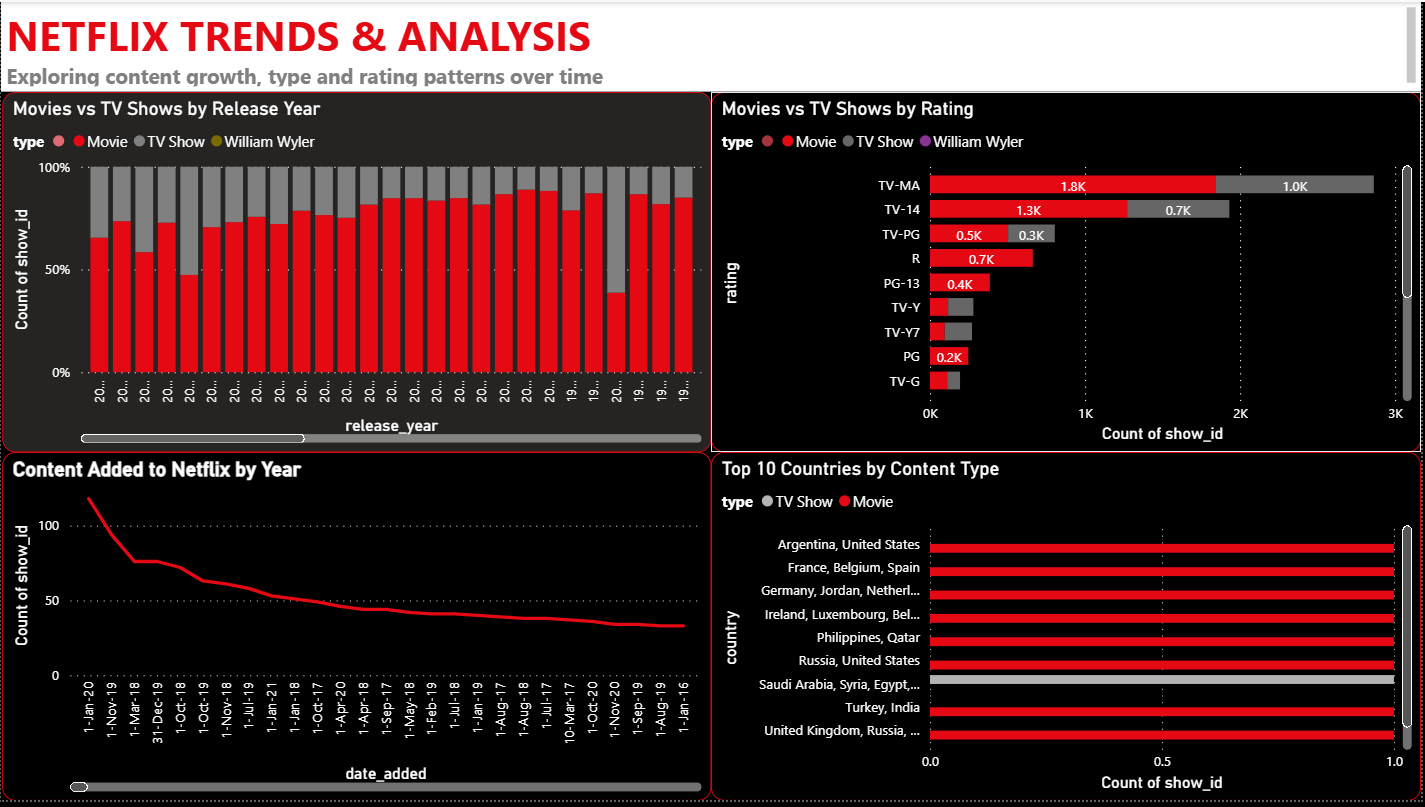

Layout of this report page (visuals, bound fields, positions):
{"tool":"powerbi","page":{"name":"Trends & Analysis","canvas":[1280,720],"ordinal":2},"visuals":[{"type":"textbox","box":[0,0,1280,81.1],"z":0},{"type":"hundredPercentStackedColumnChart","title":"Movies vs TV Shows by Release Year","fields":{"Category":["NetFlix.release_year"],"Y":["CountNonNull(NetFlix.show_id)"],"Series":["NetFlix.type"]},"box":[1.1,81.1,638.9,324.5],"z":1000},{"type":"lineChart","title":"Content Added to Netflix by Year","fields":{"Category":["NetFlix.date_added"],"Y":["CountNonNull(NetFlix.show_id)"]},"box":[1.1,405.6,638.9,314.4],"z":2000},{"type":"barChart","title":"Movies vs TV Shows by Rating","fields":{"Category":["NetFlix.rating"],"Y":["CountNonNull(NetFlix.show_id)"],"Series":["NetFlix.type"]},"box":[640,81.1,640,324.5],"z":3000},{"type":"clusteredBarChart","title":"Top 10 Countries by Content Type","fields":{"Category":["NetFlix.country"],"Y":["CountNonNull(NetFlix.show_id)"],"Series":["NetFlix.type"]},"box":[640,405.6,640,314.4],"z":4000}]}

Visuals, with their boxes in screenshot pixels (x1, y1, x2, y2), scaled from the page's 1280x720 canvas onto the 1425x807 screenshot:
textbox: [x1=0, y1=0, x2=1424, y2=91]
"Movies vs TV Shows by Release Year" hundredPercentStackedColumnChart: [x1=1, y1=91, x2=712, y2=455]
"Content Added to Netflix by Year" lineChart: [x1=1, y1=455, x2=712, y2=806]
"Movies vs TV Shows by Rating" barChart: [x1=712, y1=91, x2=1424, y2=455]
"Top 10 Countries by Content Type" clusteredBarChart: [x1=712, y1=455, x2=1424, y2=806]
